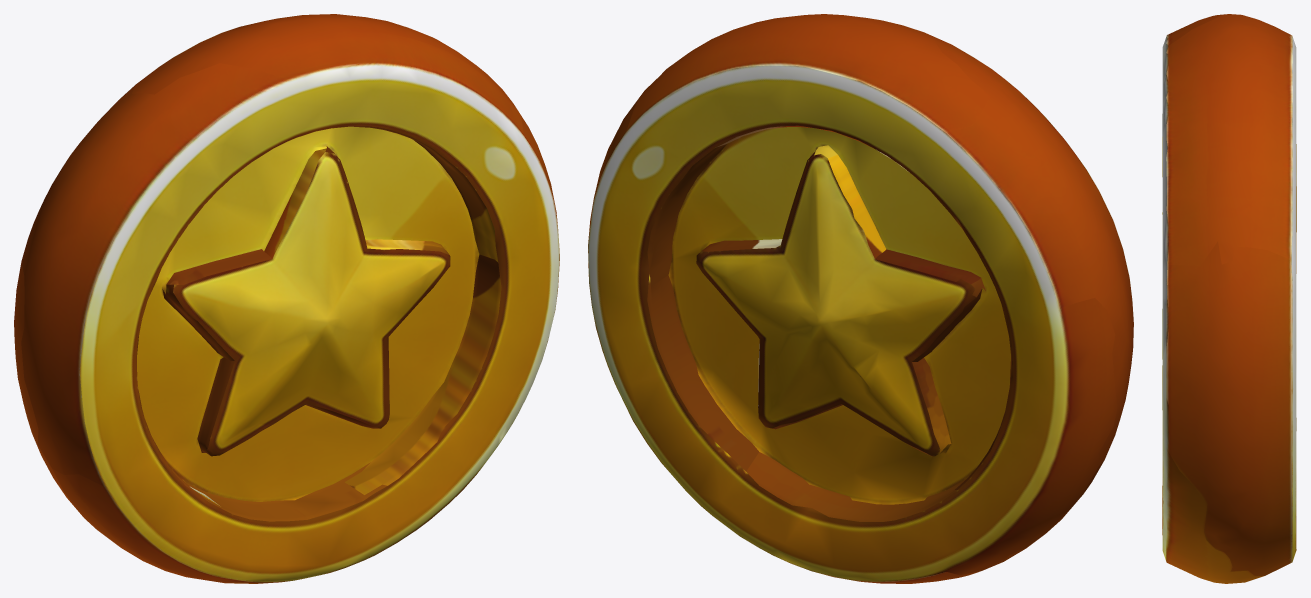
Rendered from Coin.fbx.
3 views of the same model, side by side, from view 1: azimuth 30°, elevation 25°; view 2: azimuth 150°, elevation 25°; view 3: azimuth 270°, elevation 25° (orthographic). The views are drawn at different scales.
Visible parts, largest first — view 1: tmp45um8ala.ply; view 2: tmp45um8ala.ply; view 3: tmp45um8ala.ply.
Part boxes in pixels (x1=…): tmp45um8ala.ply: x1=14, y1=14, x2=559, y2=583; tmp45um8ala.ply: x1=588, y1=14, x2=1133, y2=583; tmp45um8ala.ply: x1=1162, y1=14, x2=1296, y2=583.
Bounding box in the file's own units: 199 × 199 × 46.95.
1 material, 1 textured.
